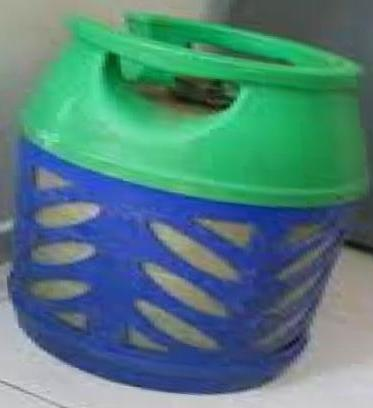cylinder: (1, 0, 373, 408)
